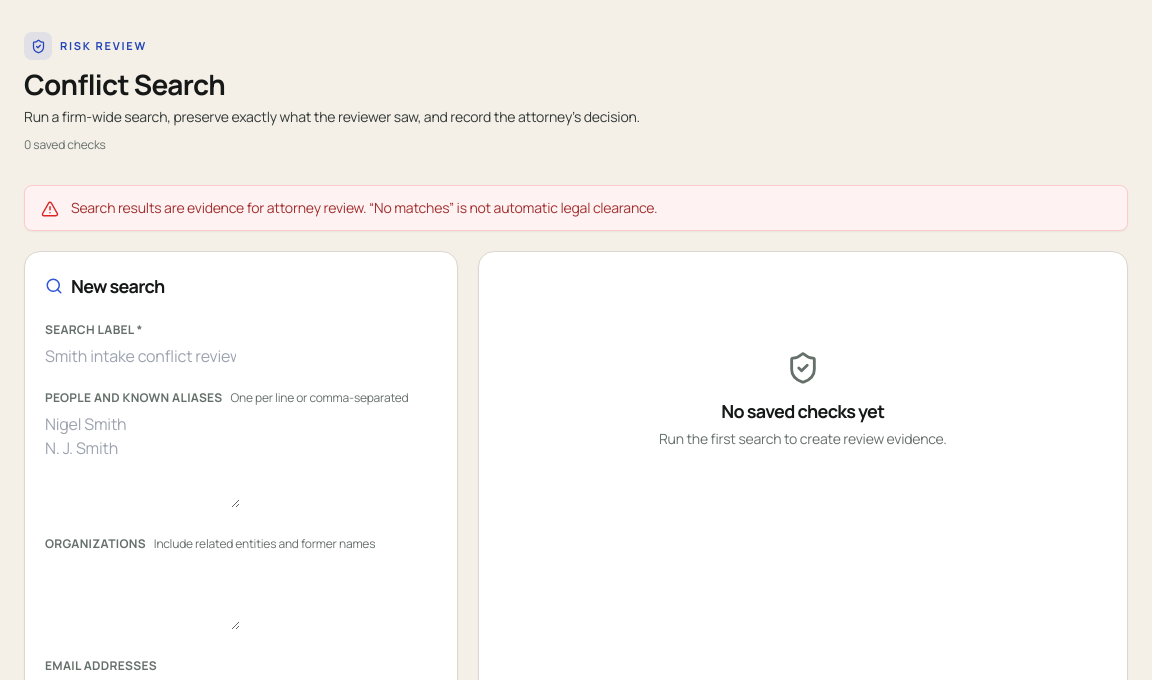
Test case: ConflictChecksPage › runs a saved search and requires an acknowledged review before closing
Check: the heading "Conflict Search" is shown, box [24, 65, 225, 103]
Type "Smith intake" into the field labelled "Search label *" at {"x": 140, "y": 356}, box [45, 344, 236, 368]
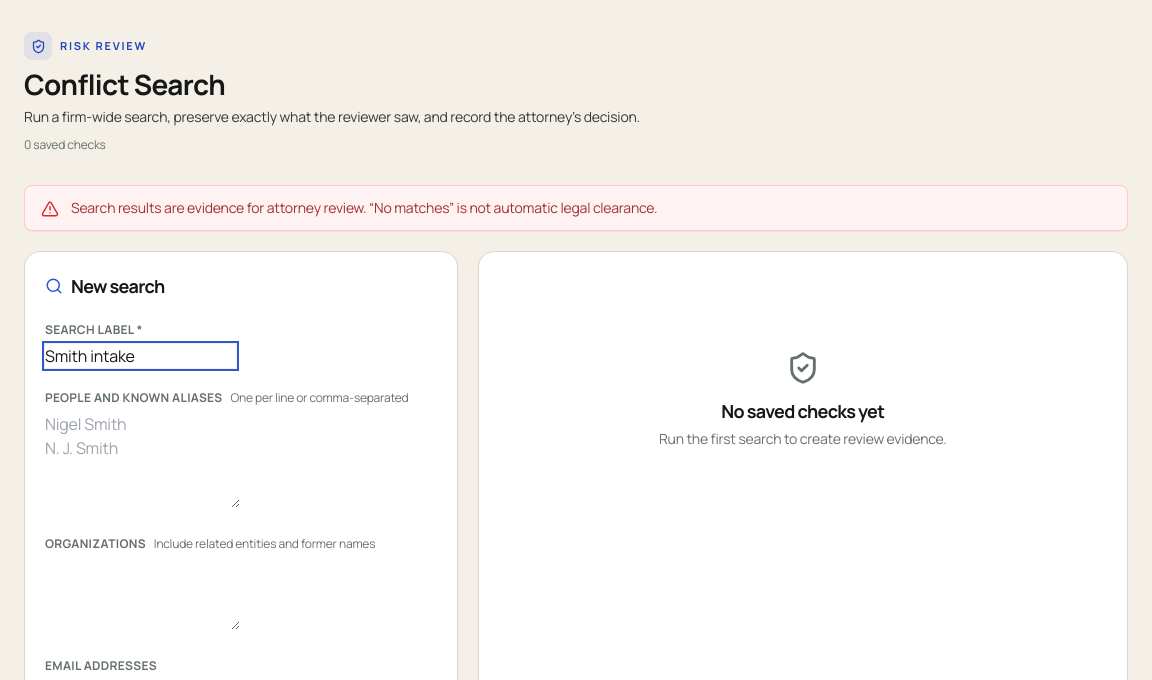
Type "Alice Smith" into the text box labelled "People and known aliases" at {"x": 142, "y": 460}, box [45, 412, 240, 508]
(page scrolled)
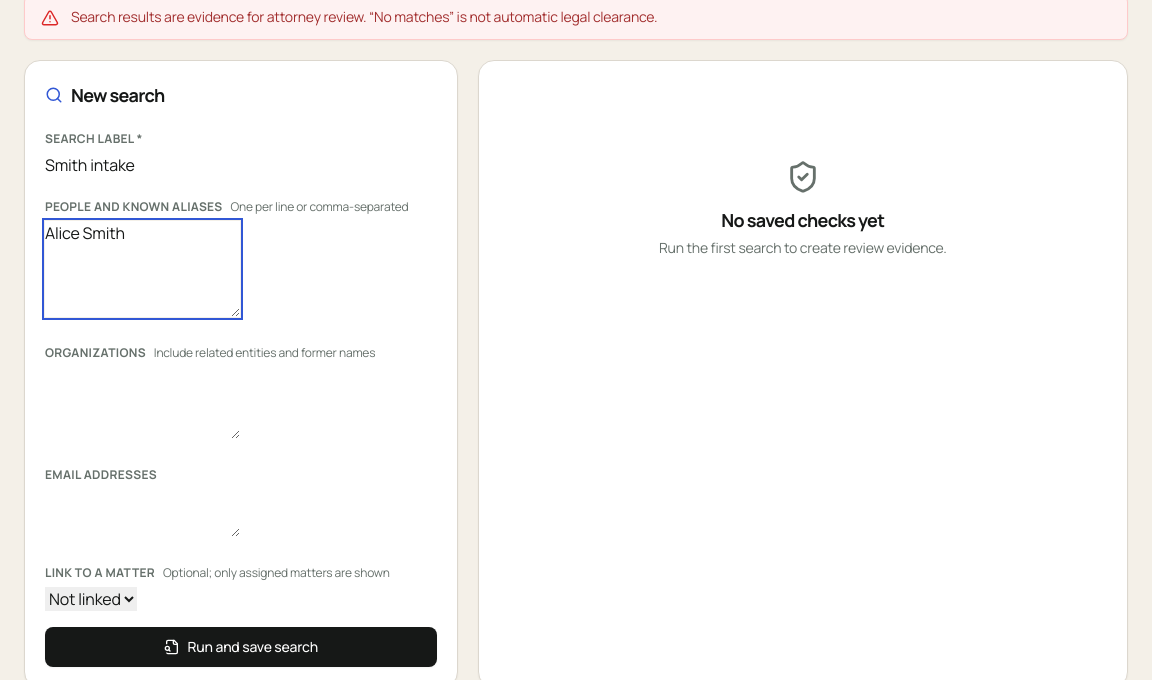
Click the button "Run and save search" at {"x": 241, "y": 647}, box [45, 627, 437, 667]
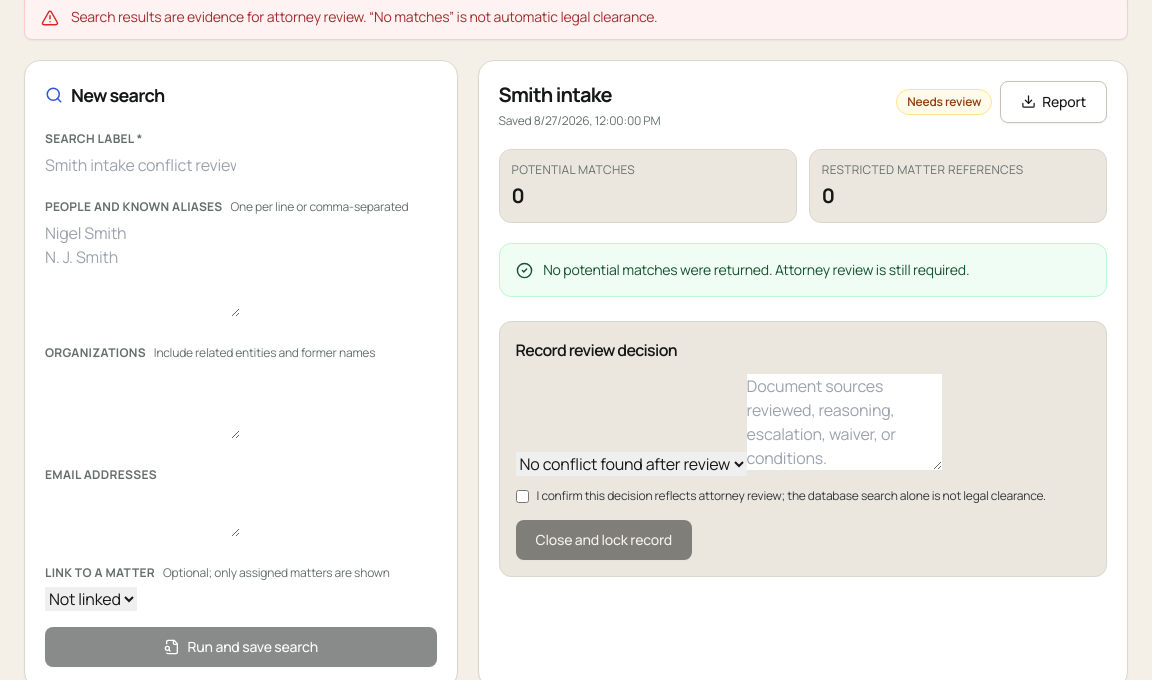
Check: the text "No potential matches were returned" is shown, box [541, 260, 969, 279]
Type "Reviewed the contact and representation history." into the text box with placeholder "Document sources reviewed" at {"x": 844, "y": 422}, box [747, 374, 942, 470]
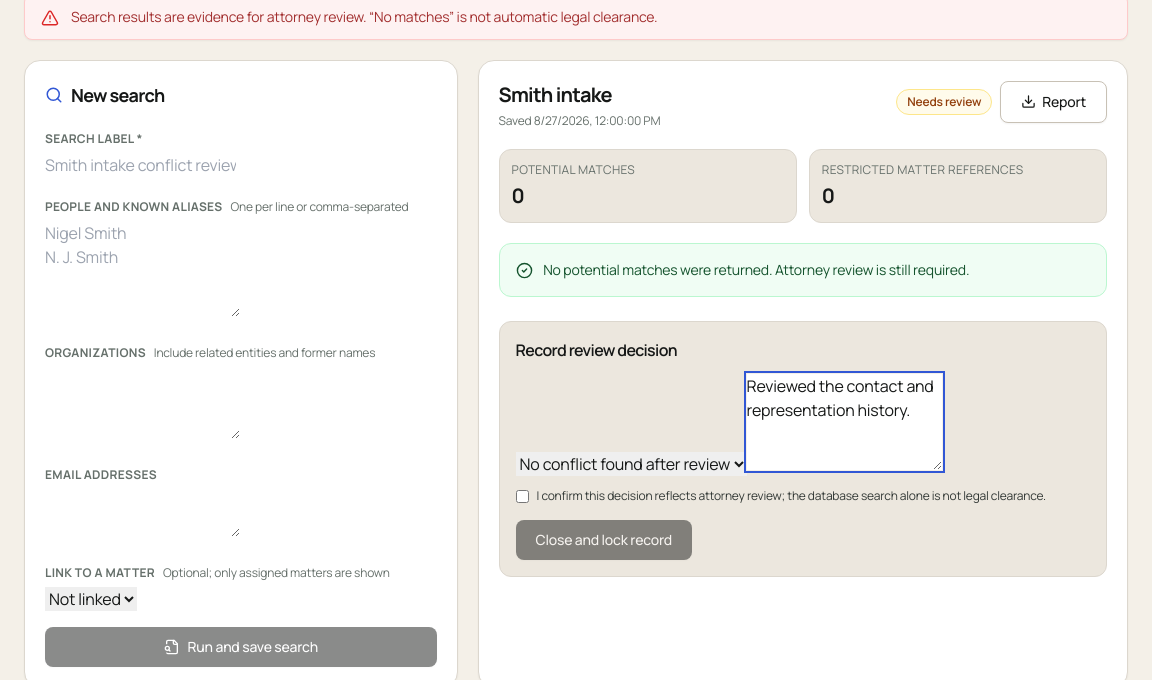
Check: the button "Close and lock record" is disabled, box [516, 520, 692, 560]
Click the checkbox at {"x": 522, "y": 496}, box [516, 490, 529, 503]
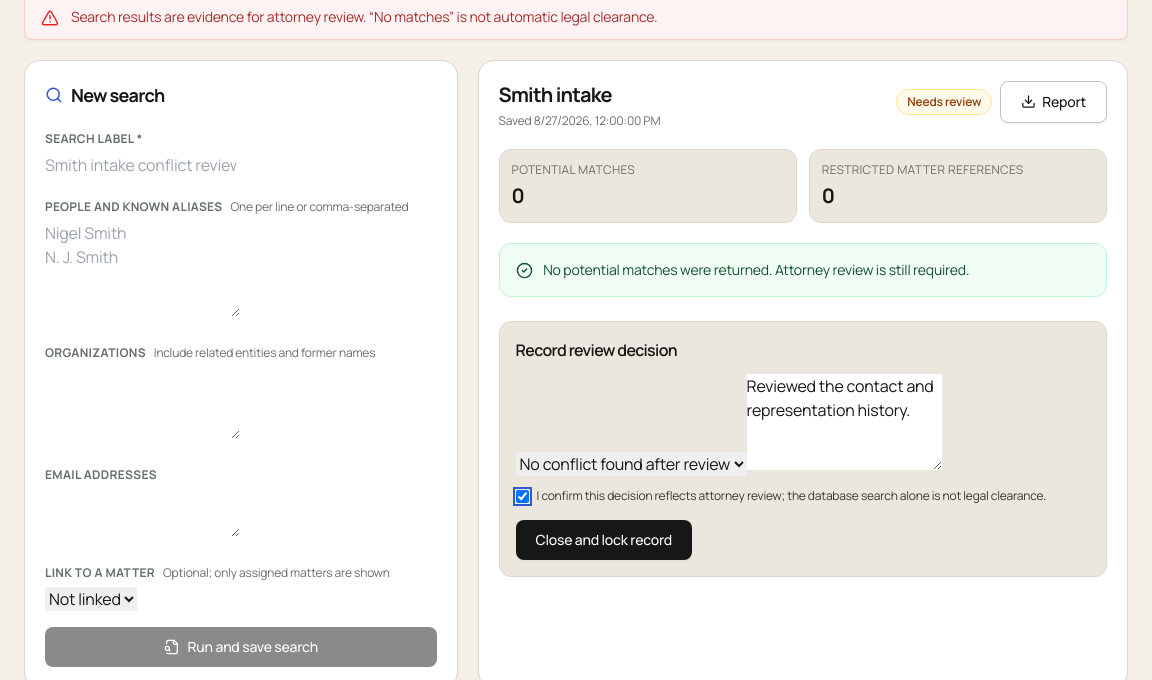
Click the button "Close and lock record" at {"x": 604, "y": 540}, box [516, 520, 692, 560]
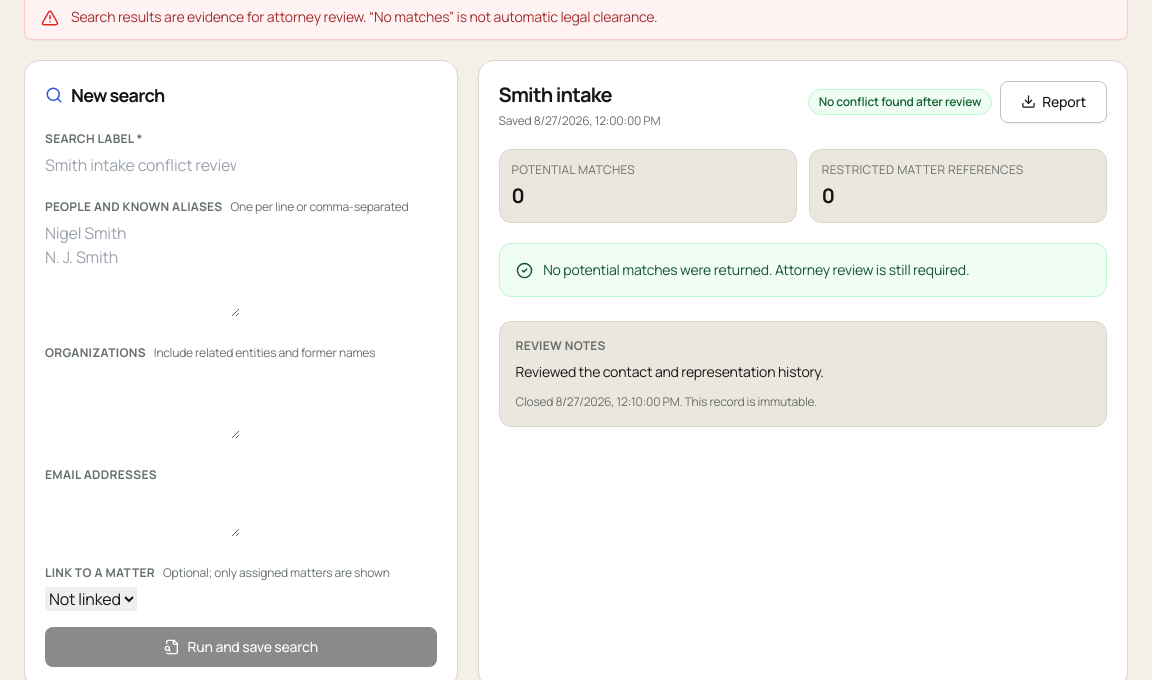
Check: the text "Closed 8/27/2026, 12:10:00 PM. This record is immutable." is shown, box [516, 393, 817, 410]
